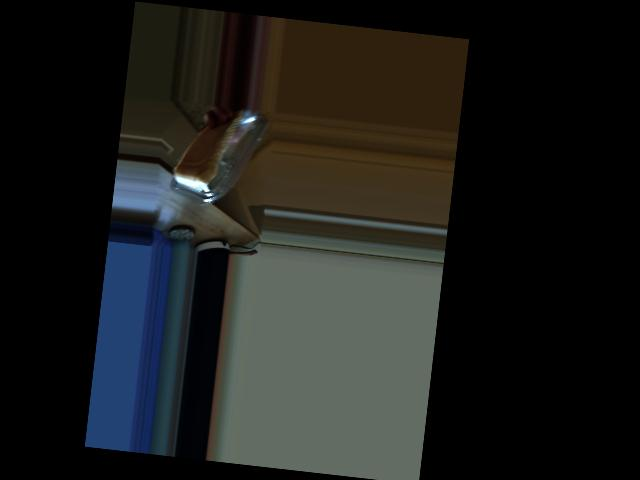cheese: (181, 137, 250, 198)
